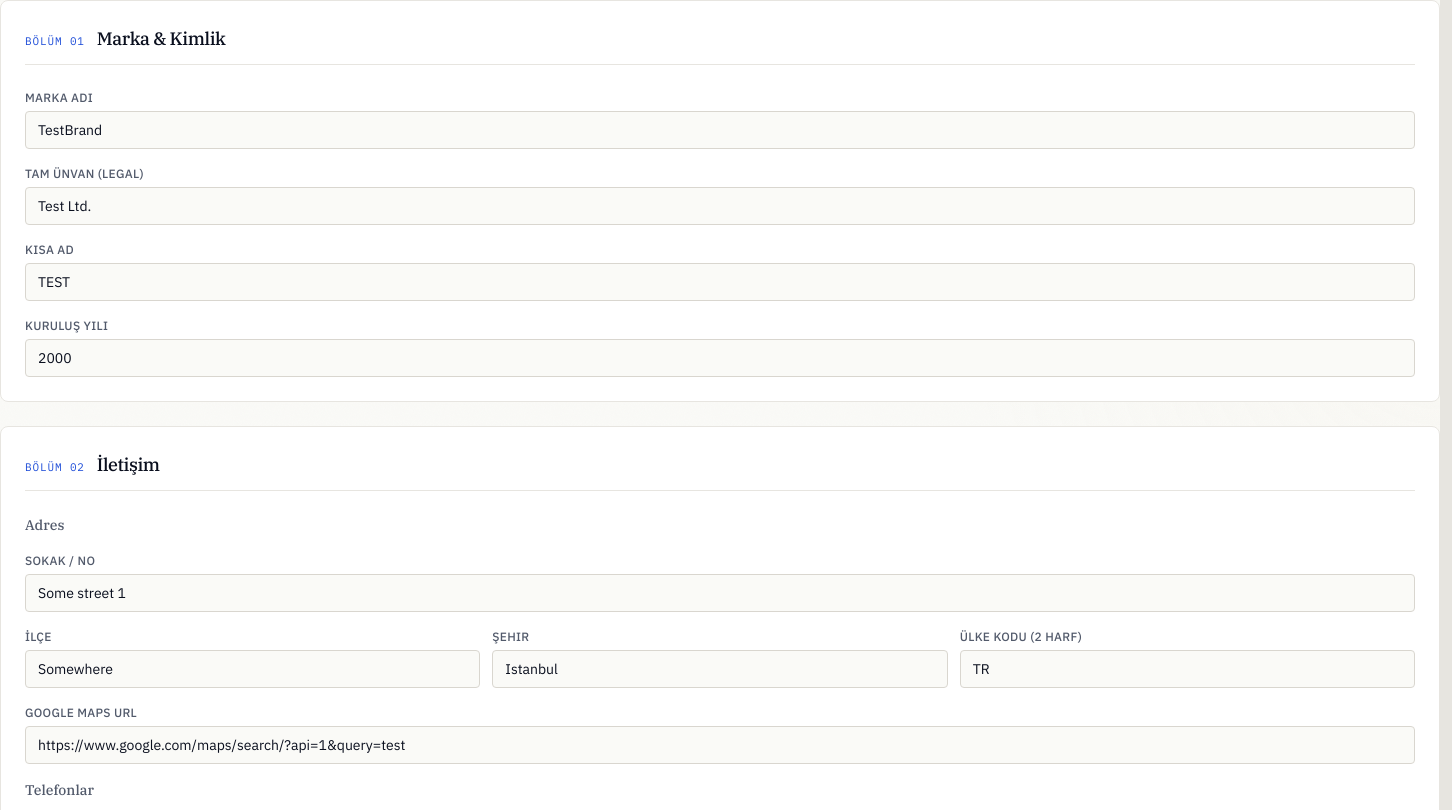
Scenario: CompanyForm › enables submit only after a valid change
Replace the text in the field labelled "Marka adı" with "Yeni Marka". click: (720, 130)
box: [25, 111, 1415, 149]
(page scrolled)
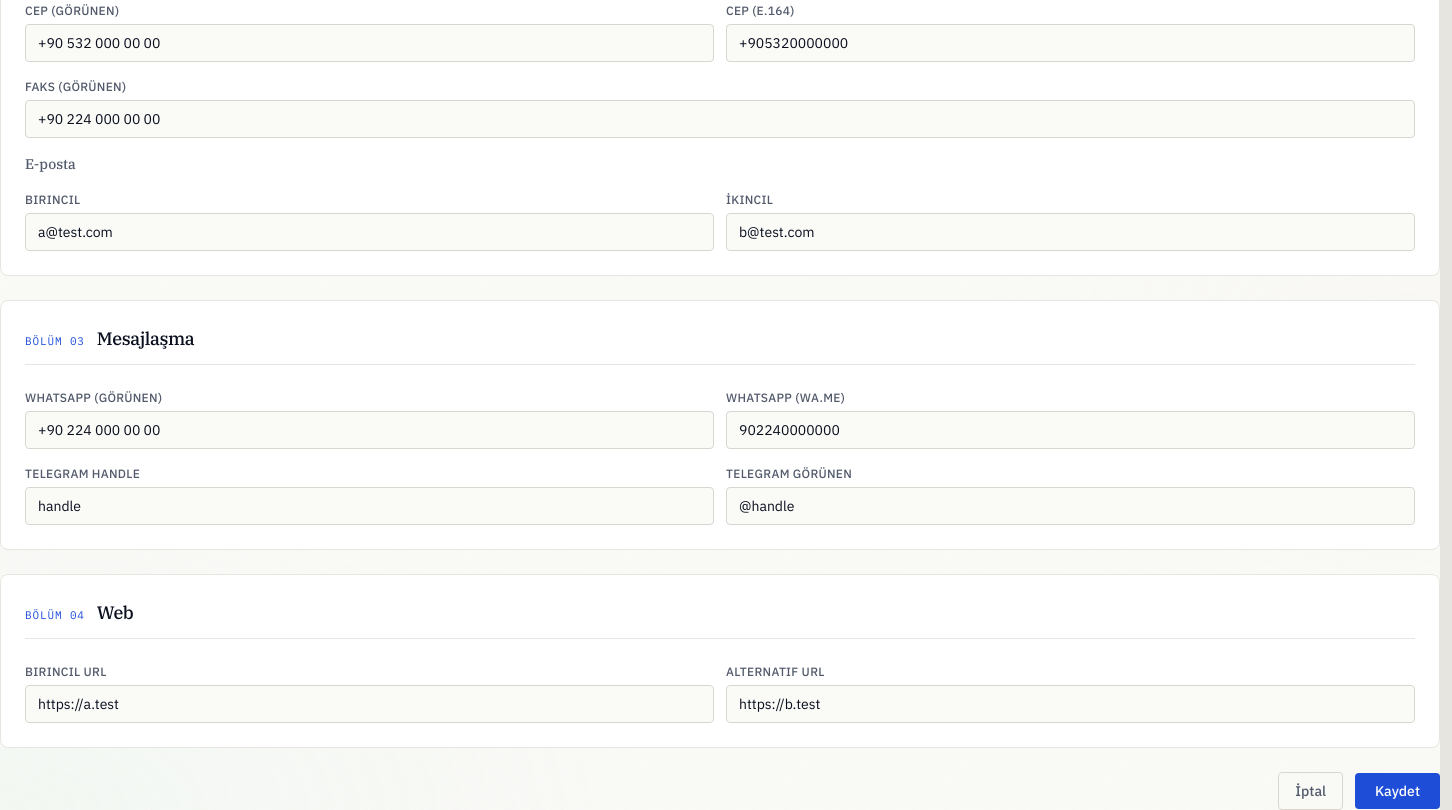
Expected: the button "Kaydet" is enabled, [1355, 773, 1440, 809]
